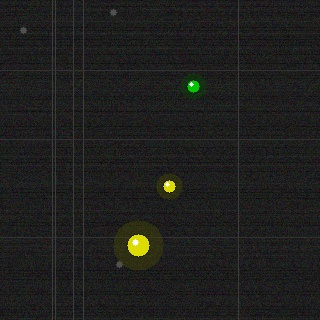green_normal: (185, 78, 201, 94)
yellow_warning: (125, 232, 151, 258), (161, 178, 177, 194)
